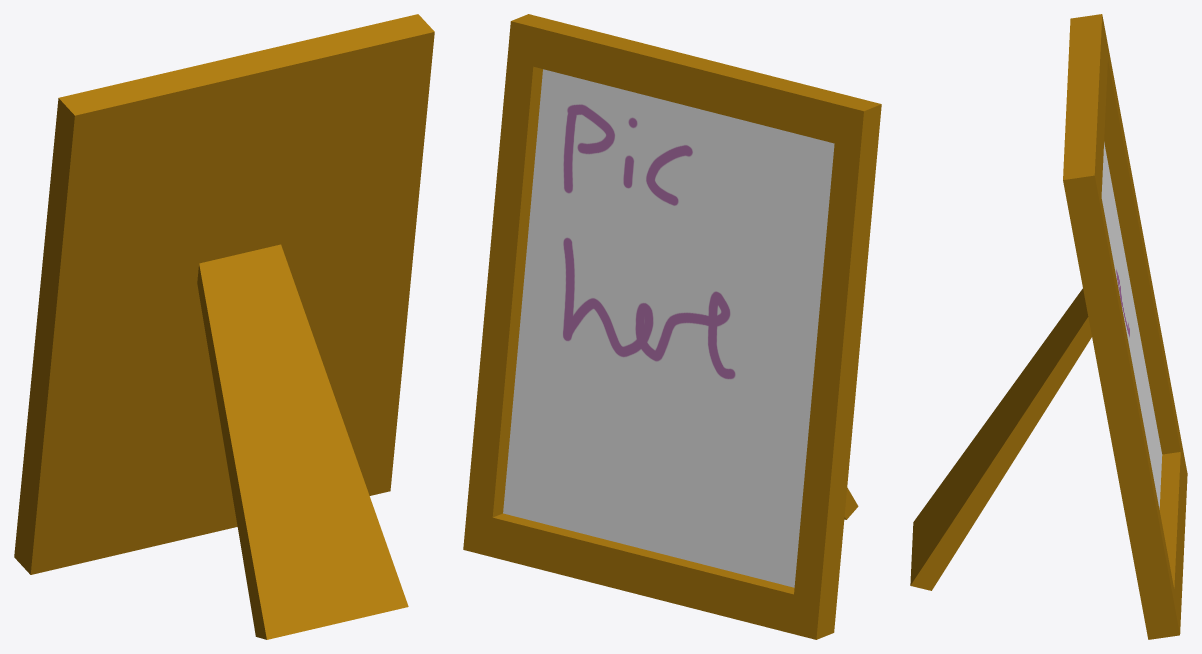
File: Small_Pictureframe.fbx
3 views of the same model, side by side, from view 1: azimuth 30°, elevation 25°; view 2: azimuth 150°, elevation 25°; view 3: azimuth 270°, elevation 25° (orthographic). The views are drawn at different scales.
Visible parts, largest first — view 1: Cube.073; view 2: Cube.073; view 3: Cube.073.
Boxes of the visible parts, x1,y1,x2,y2 form: Cube.073: (14, 14, 434, 639); Cube.073: (463, 14, 881, 639); Cube.073: (910, 14, 1187, 639).
Size of the model in its own units: 22.78 by 30.36 by 16.42.
